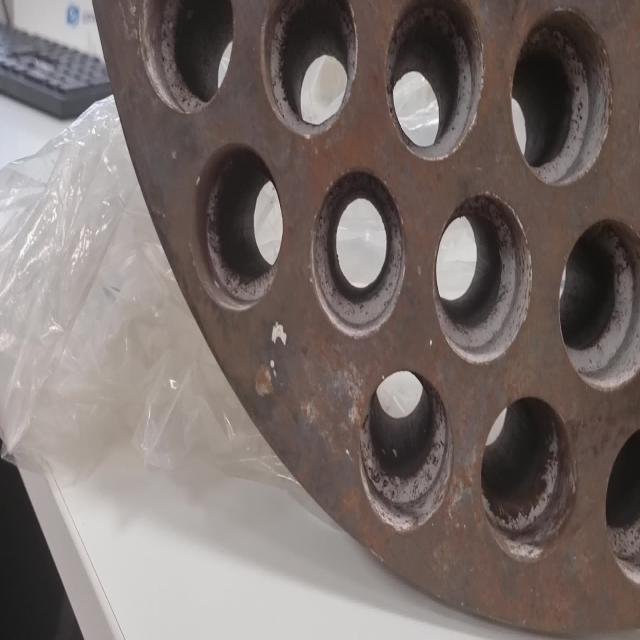Hole: (511, 7, 614, 186), (434, 190, 533, 364), (310, 167, 408, 339), (385, 0, 486, 162), (480, 394, 576, 562), (359, 368, 453, 534), (193, 142, 284, 312), (559, 217, 639, 392), (261, 0, 358, 140), (138, 1, 234, 115)
